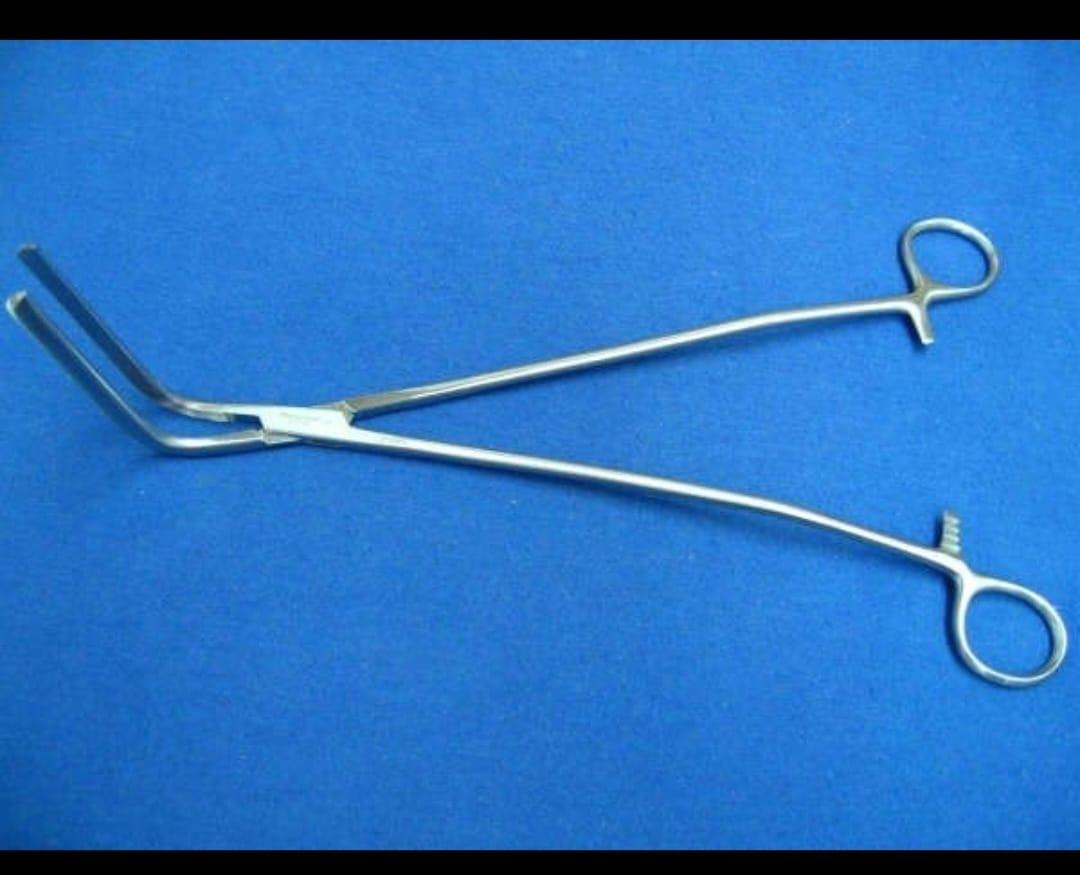Surgical blade: (6, 219, 1077, 690)
